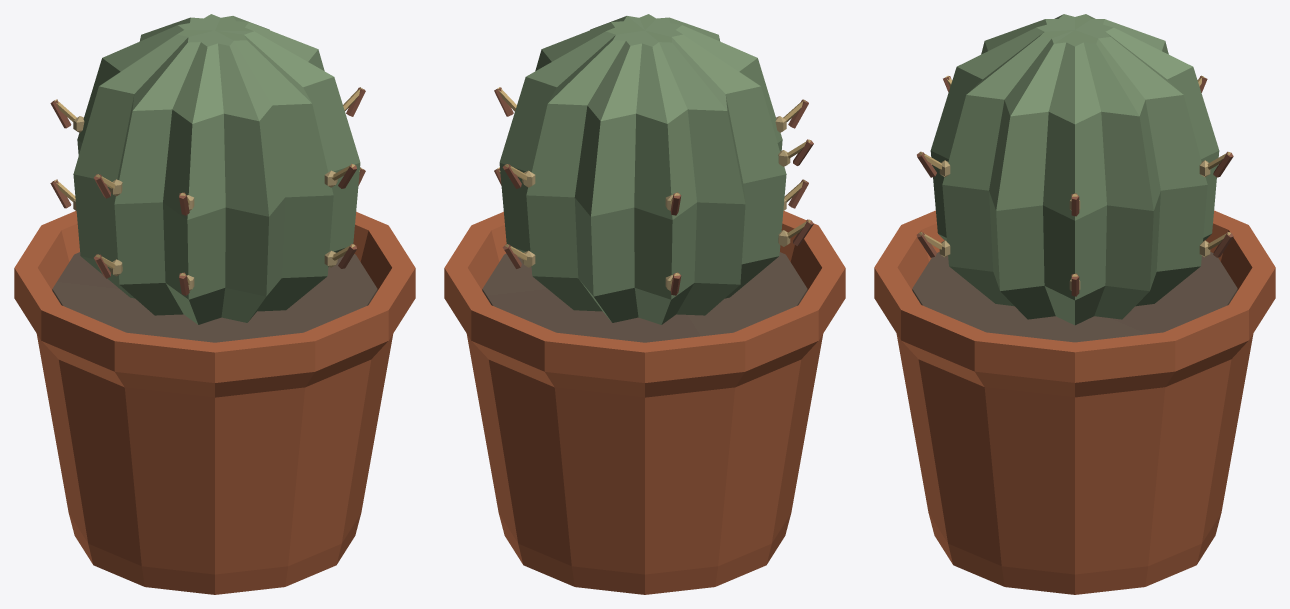
Rendered from new-latispinus.glb.
3 renders of one model, left to right at view 1: azimuth 30°, elevation 25°; view 2: azimuth 150°, elevation 25°; view 3: azimuth 270°, elevation 25°, orthographic.
Visible parts, largest first — view 1: new-latispinus/review-terra-vessel, new-latispinus/ribbed-stem-001, new-latispinus/review-rooted-soil; view 2: new-latispinus/review-terra-vessel, new-latispinus/ribbed-stem-001, new-latispinus/review-rooted-soil; view 3: new-latispinus/review-terra-vessel, new-latispinus/ribbed-stem-001, new-latispinus/review-rooted-soil.
Part boxes in pixels (x1,y1,x2,y2): new-latispinus/review-terra-vessel: (14,211,415,594); new-latispinus/ribbed-stem-001: (73,14,360,324); new-latispinus/review-rooted-soil: (52,252,377,342); new-latispinus/review-terra-vessel: (444,211,845,594); new-latispinus/ribbed-stem-001: (499,14,786,324); new-latispinus/review-rooted-soil: (482,252,807,342); new-latispinus/review-terra-vessel: (874,210,1275,594); new-latispinus/ribbed-stem-001: (930,14,1219,325); new-latispinus/review-rooted-soil: (912,252,1237,342).
Size of the model in its own units: 0.19 by 0.264 by 0.19.
6 materials, 6 textured.
